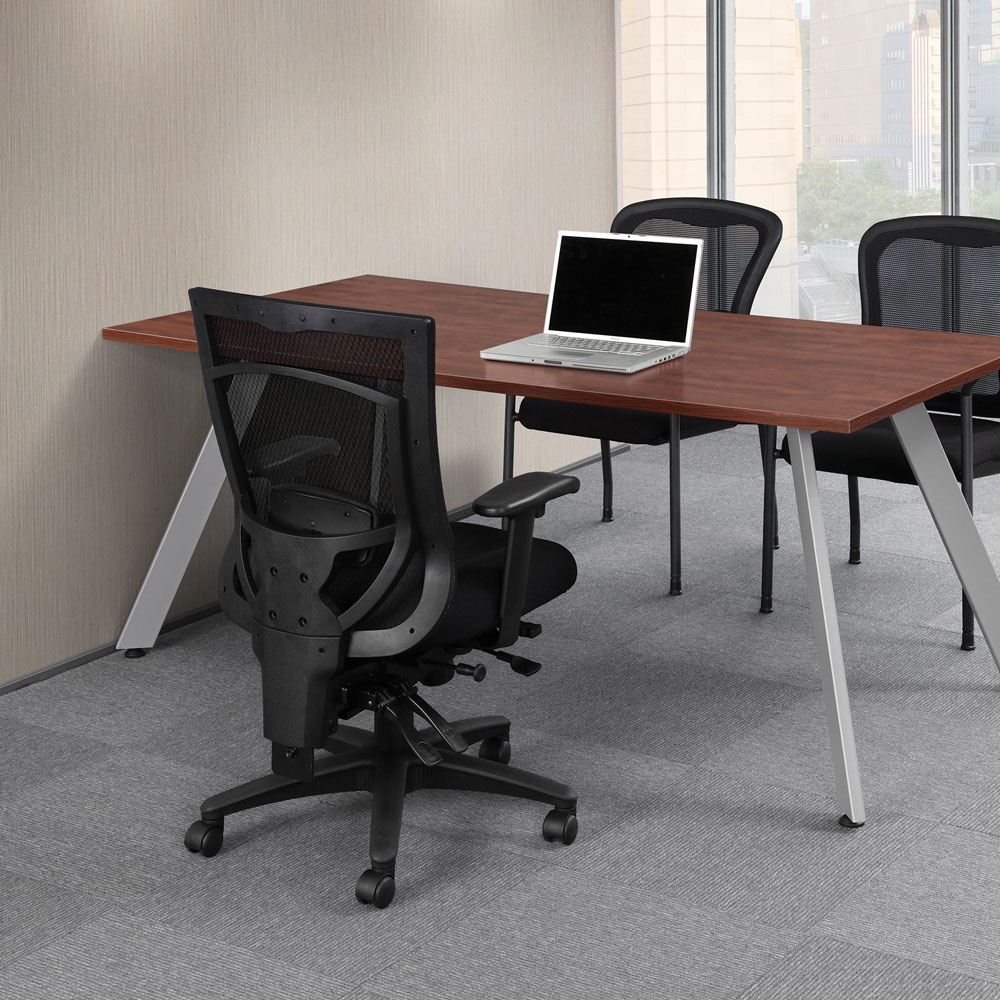conference_table: (101, 275, 997, 823)
